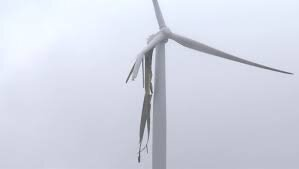faulty: (119, 15, 218, 147)
